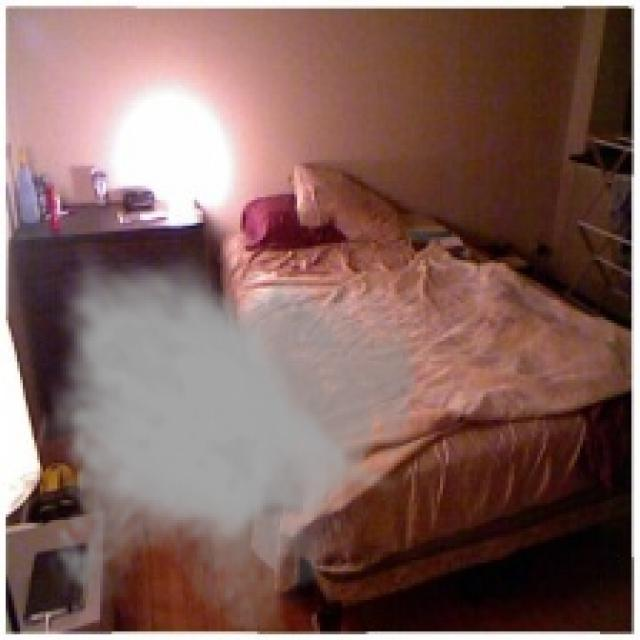smoke: (43, 243, 423, 634)
